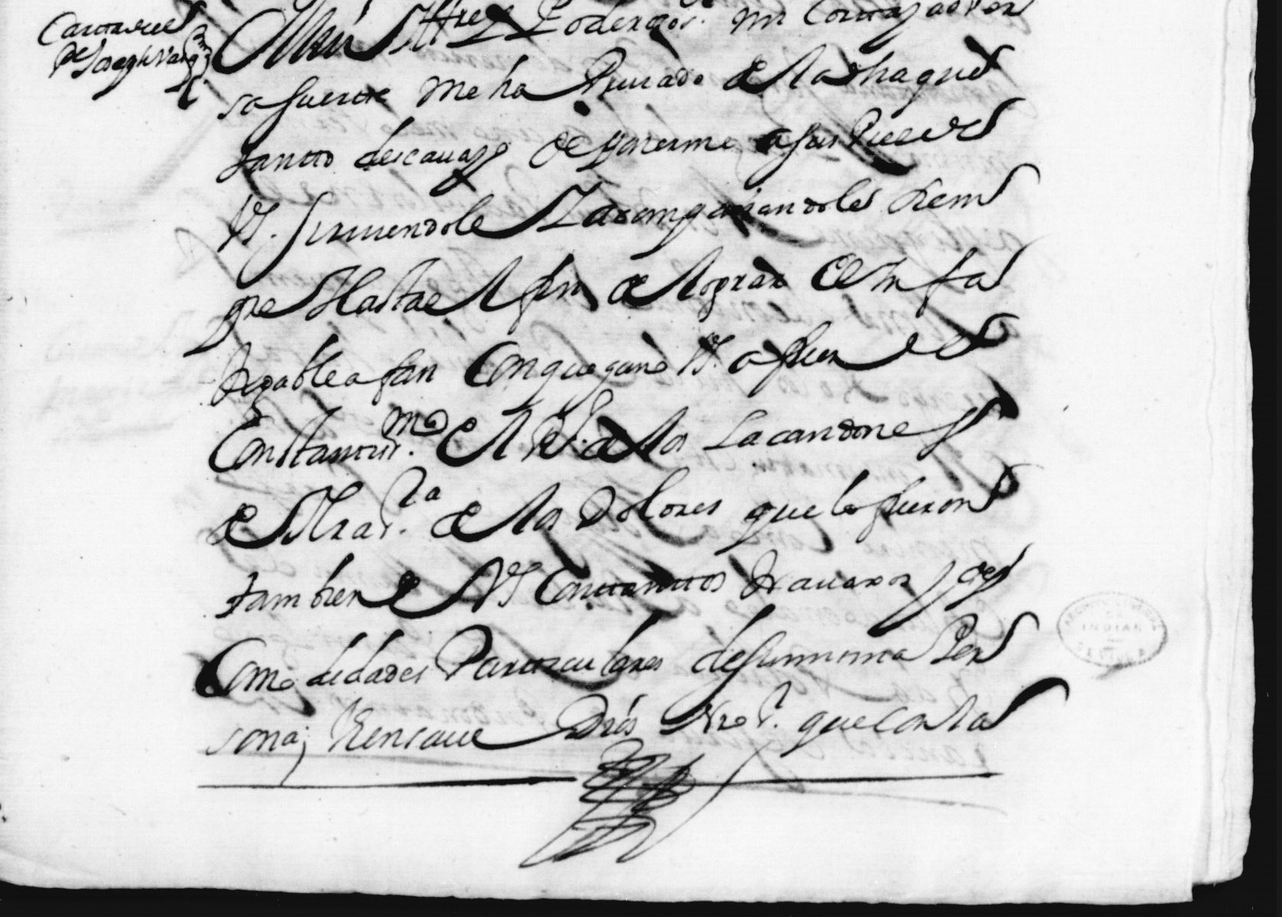lacandon: (702, 397, 999, 461)
